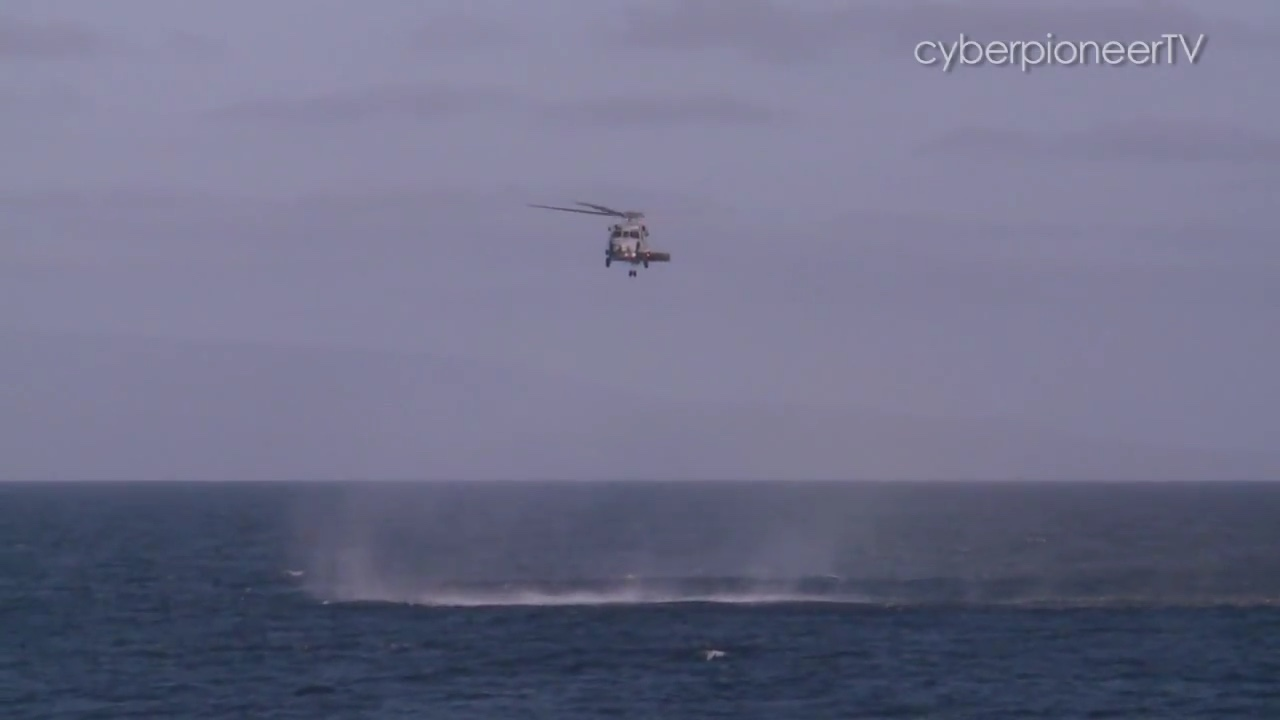seahawk: (517, 187, 723, 281)
